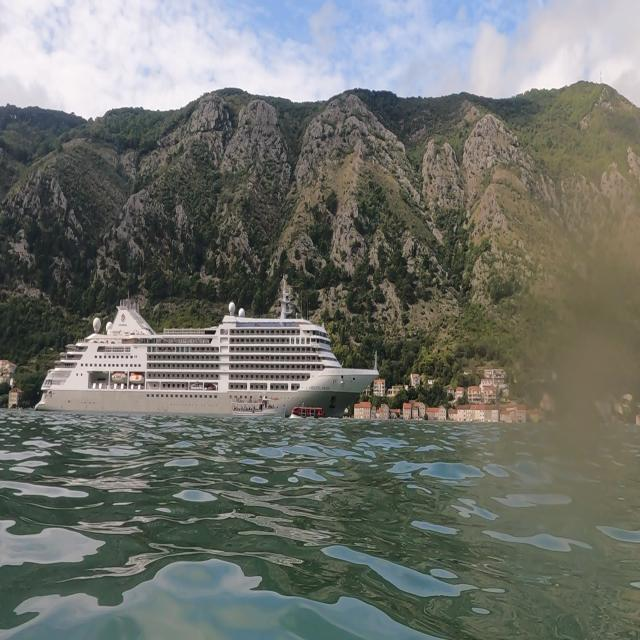boat: (33, 273, 381, 420)
